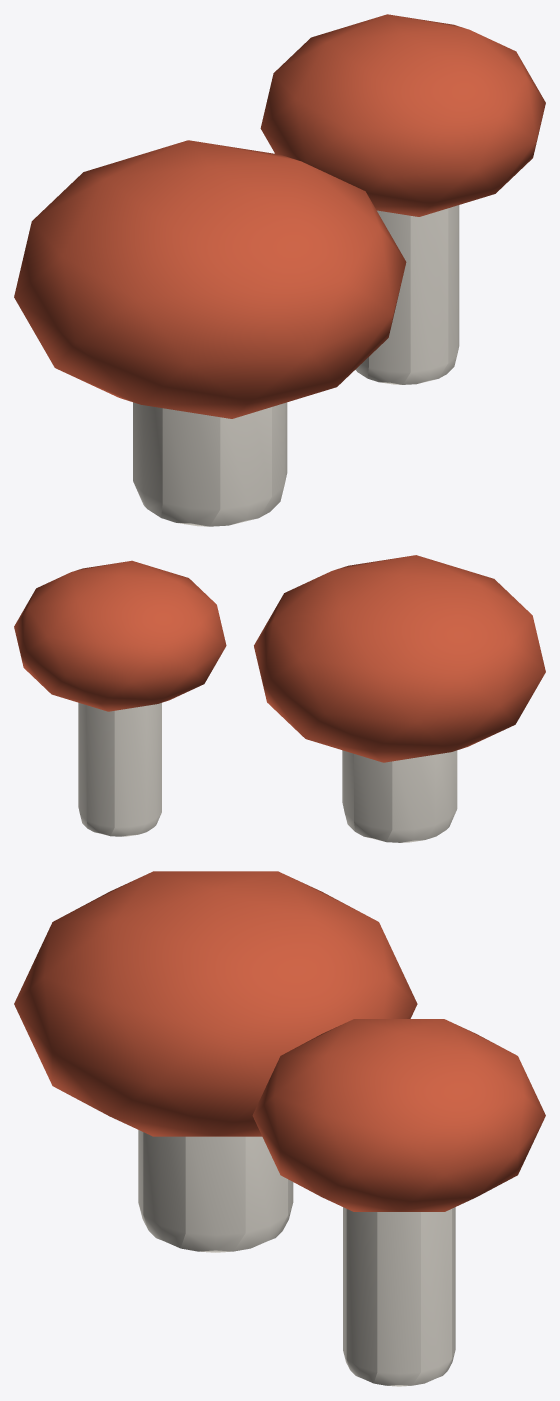
File: prop_mushrooms.glb
3 renders of one model, top to bottom at view 1: azimuth 30°, elevation 25°; view 2: azimuth 150°, elevation 25°; view 3: azimuth 270°, elevation 25°, orthographic. The views are drawn at different scales.
Visible parts, largest first — view 1: msh_cap, msh2_cap, msh_stem, msh2_stem; view 2: msh_cap, msh2_cap, msh2_stem, msh_stem; view 3: msh_cap, msh2_cap, msh2_stem, msh_stem.
Boxes of the visible parts, bbox=[...] form: msh_cap: bbox=[14, 140, 406, 418]; msh2_cap: bbox=[260, 14, 545, 216]; msh_stem: bbox=[133, 402, 287, 526]; msh2_stem: bbox=[355, 205, 459, 384]; msh_cap: bbox=[254, 555, 545, 762]; msh2_cap: bbox=[14, 560, 226, 711]; msh2_stem: bbox=[78, 702, 161, 836]; msh_stem: bbox=[342, 750, 457, 842]; msh_cap: bbox=[14, 871, 417, 1136]; msh2_cap: bbox=[252, 1019, 545, 1211]; msh2_stem: bbox=[343, 1207, 455, 1386]; msh_stem: bbox=[138, 1130, 293, 1252].
Bounding box in the file's own units: 0.3607 × 0.2052 × 0.29.
